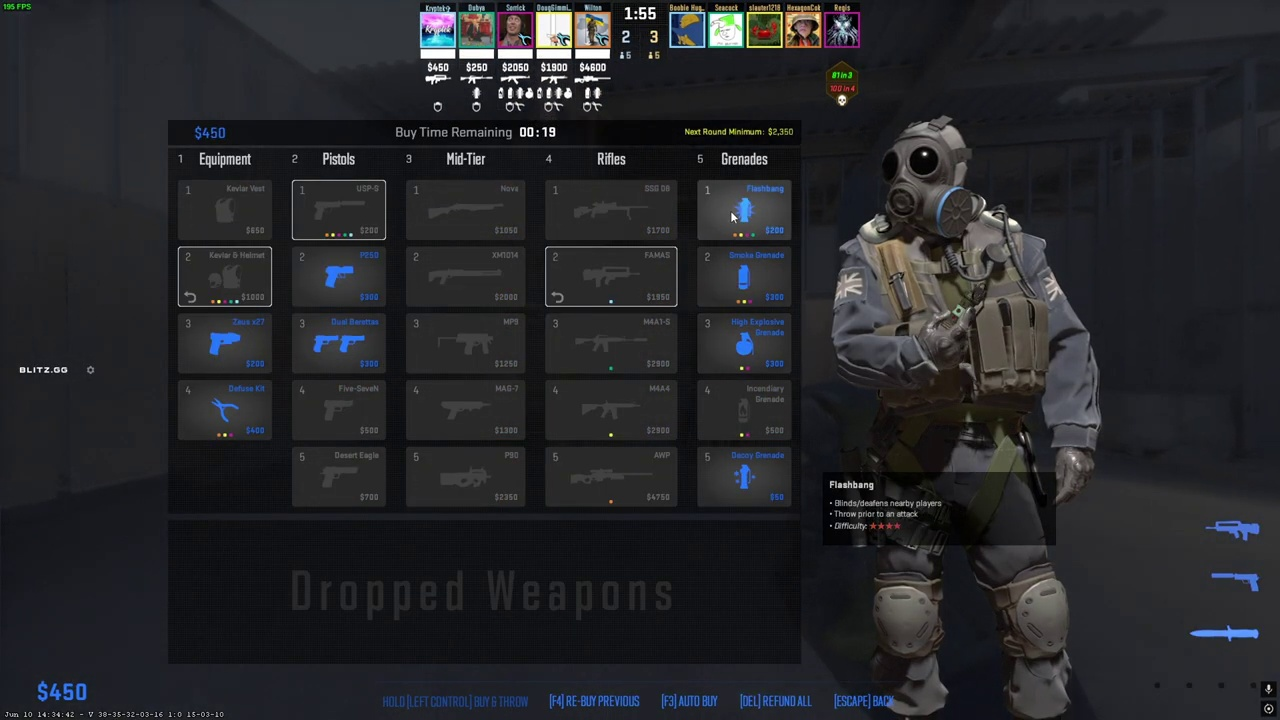CT: (856, 122, 1077, 720)
